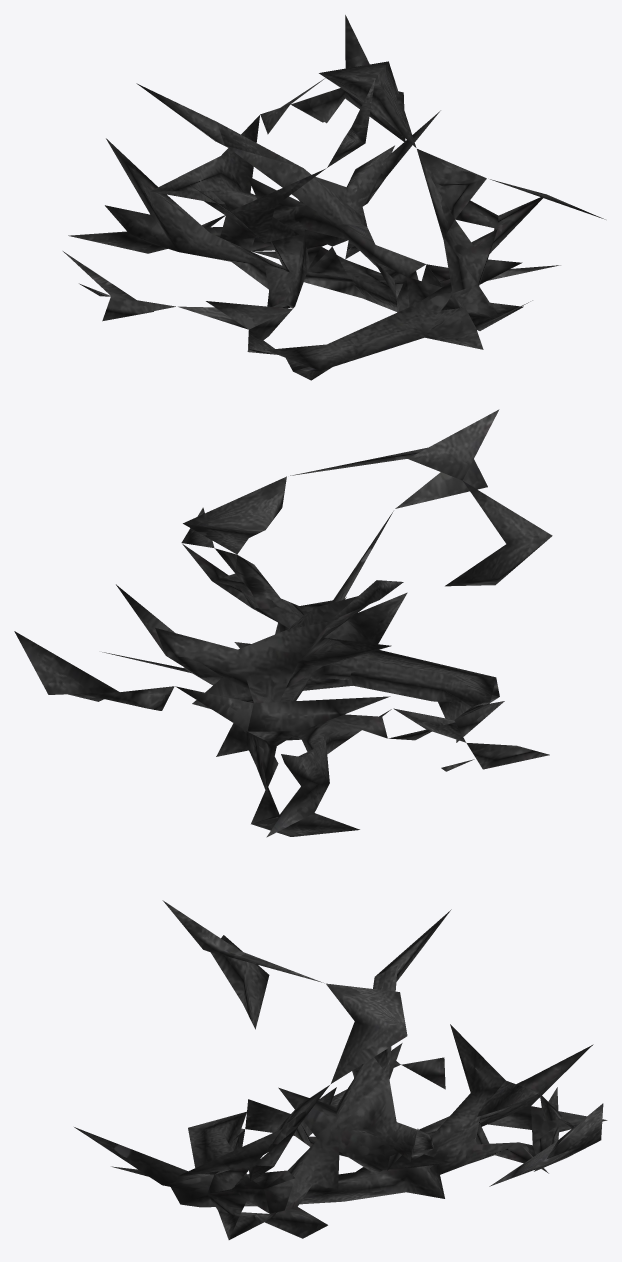
The model's file is haunted-bush-1.glb.
3 views of the same model, one above another, from view 1: azimuth 30°, elevation 25°; view 2: azimuth 150°, elevation 25°; view 3: azimuth 270°, elevation 25° (orthographic). The views are drawn at different scales.
Visible parts, largest first — view 1: geometry_0.001; view 2: geometry_0.001; view 3: geometry_0.001.
Part boxes in pixels (<box>): geometry_0.001: <box>63,15,605,380</box>; geometry_0.001: <box>14,409,552,837</box>; geometry_0.001: <box>74,900,607,1239</box>.
Size of the model in its own units: 0.5643 by 0.3173 by 0.6449.
Materials: 1 (1 with a texture image).
